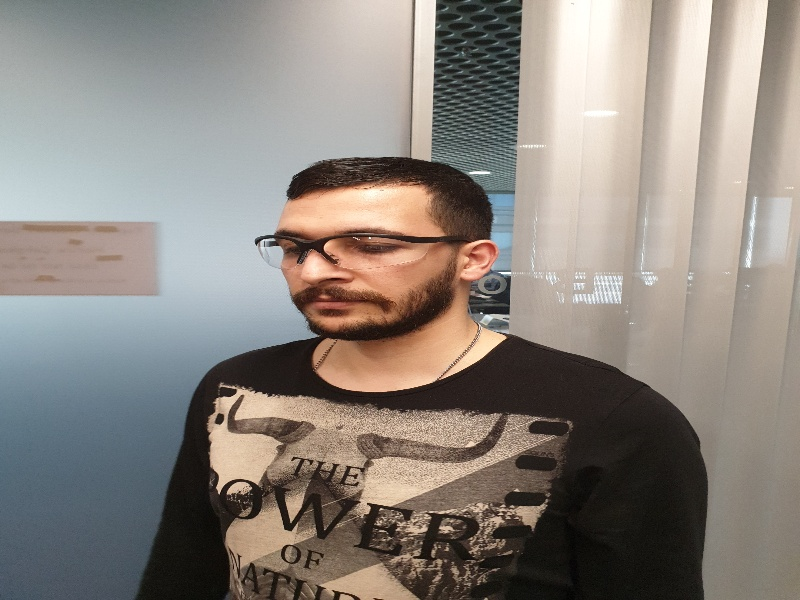Gozluk: (252, 232, 470, 267)
